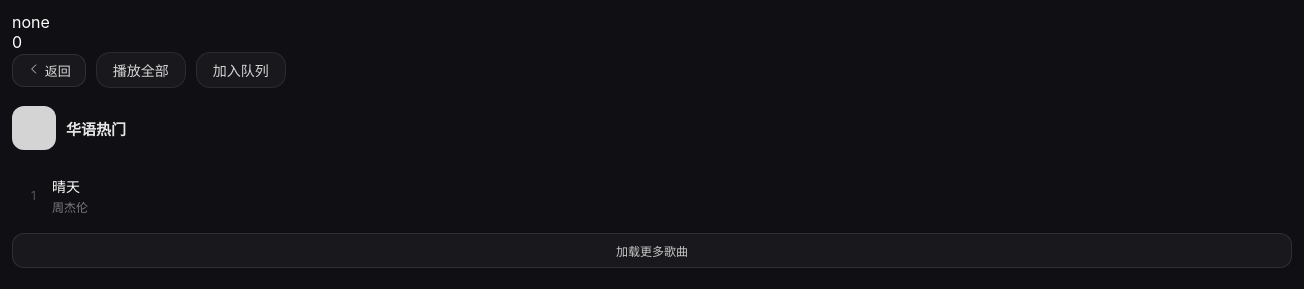
it: PlaylistDetail — DM-06 › loads the next page of a long playlist without replacing loaded songs
Expected: the text "晴天" is shown, [52,176,80,196]
Click the button "加载更多歌曲".
click(652, 250)  # box [12,233,1292,268]
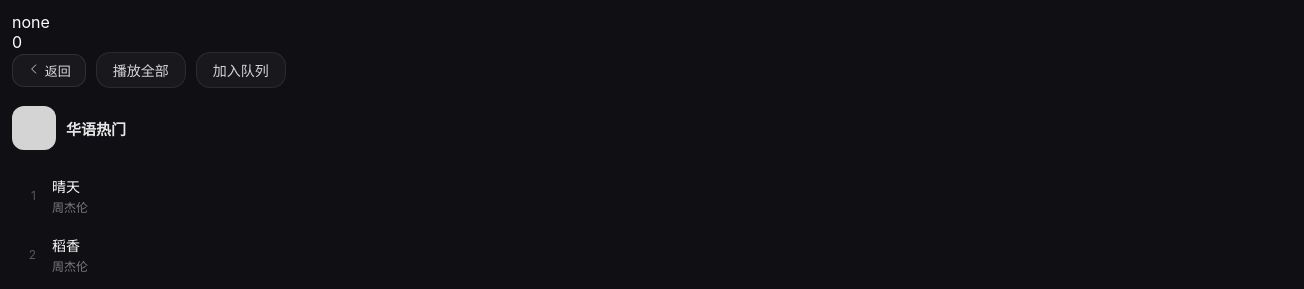
Expected: the text "晴天" is shown, [52,176,80,196]
Expected: the text "稻香" is shown, [52,235,80,255]
